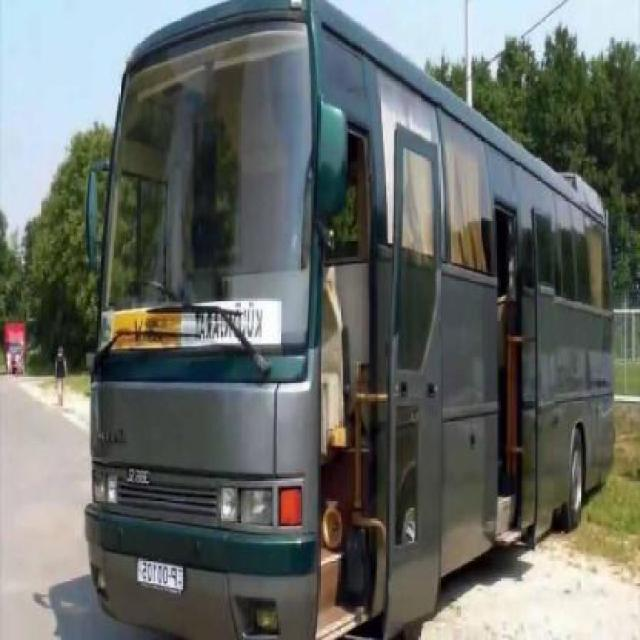bus: (94, 6, 612, 628)
